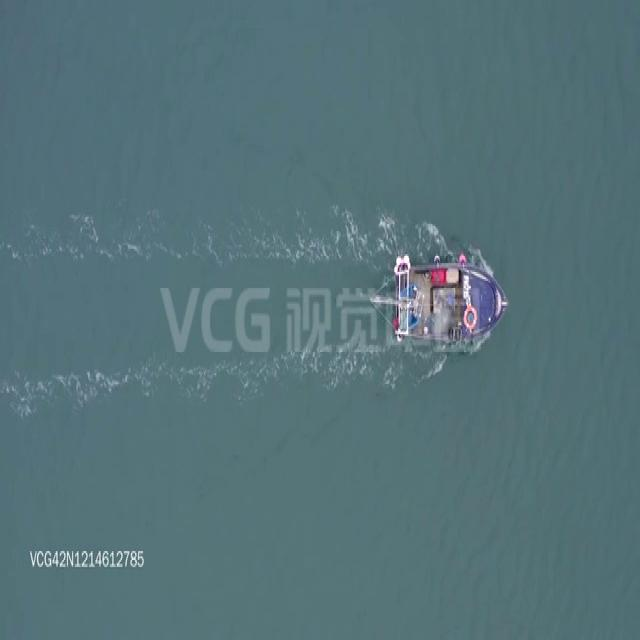houseboat: (375, 252, 508, 343)
